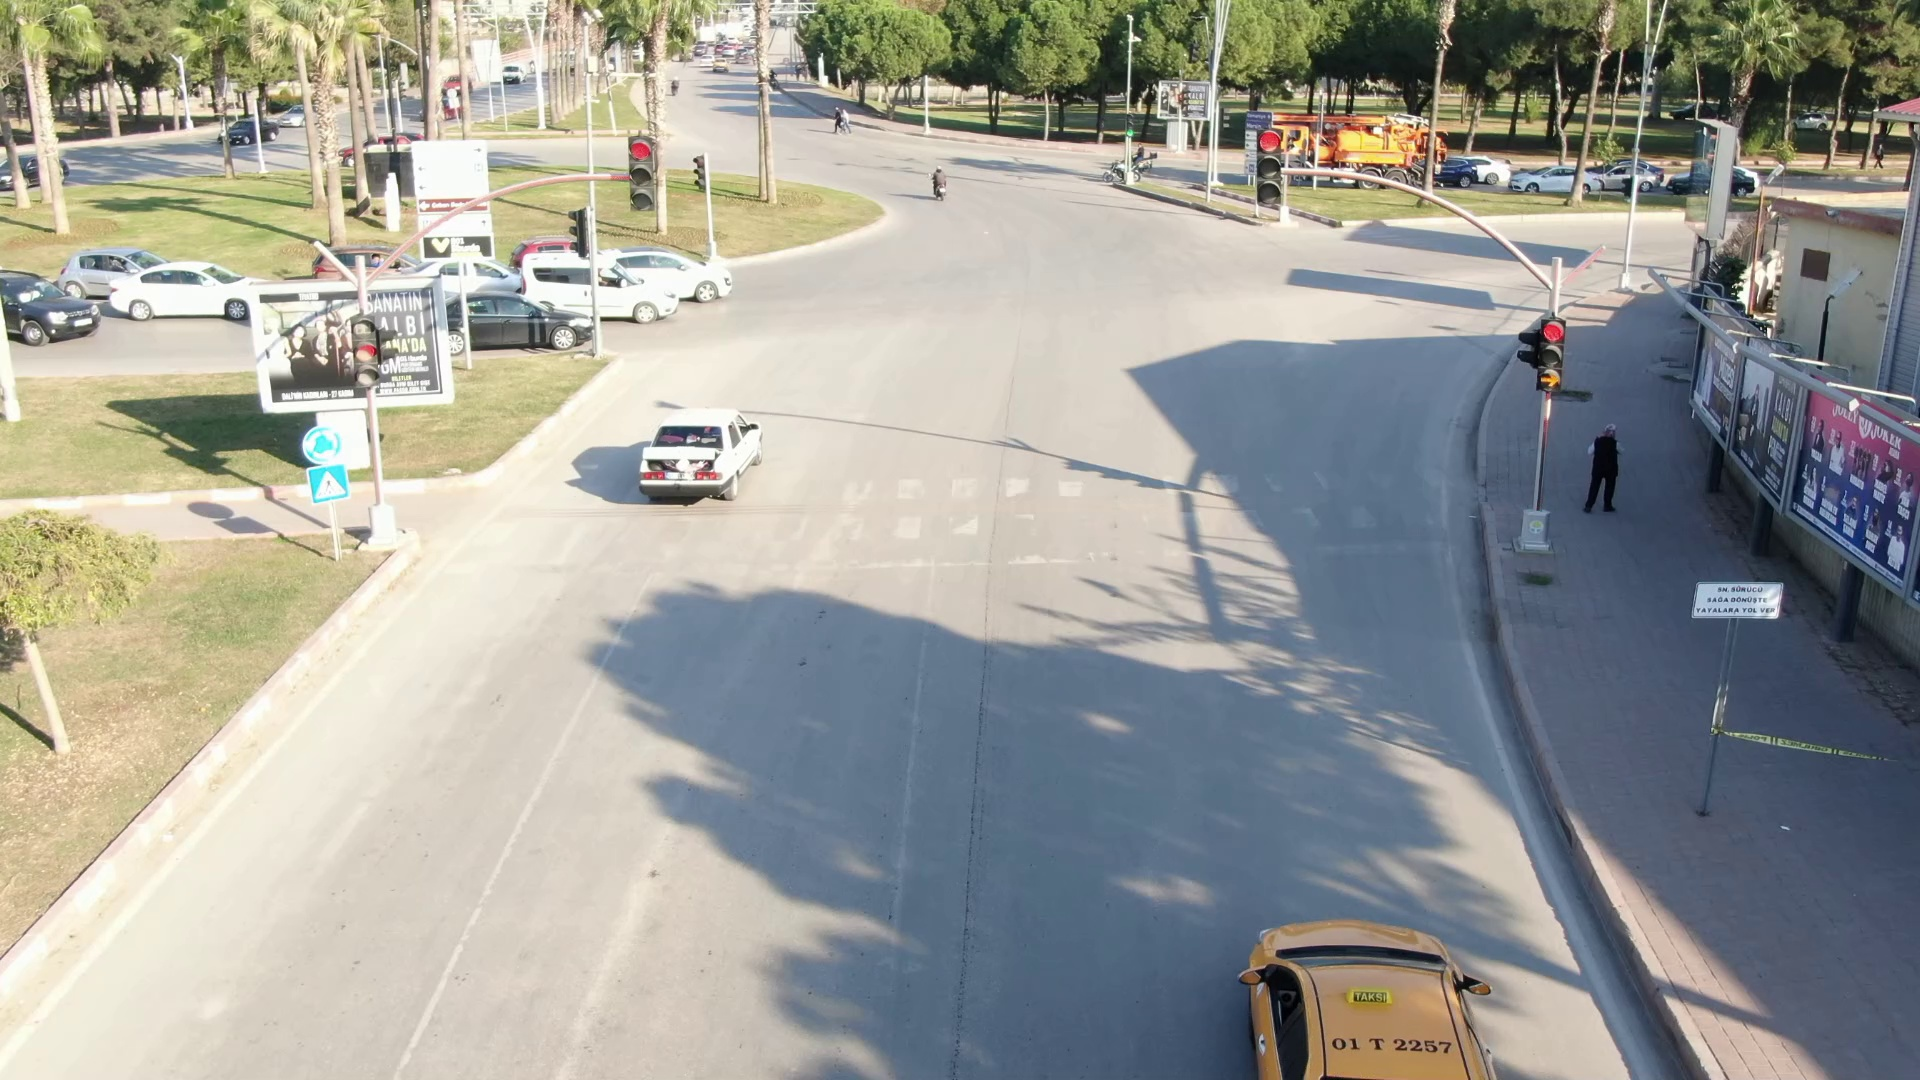car: (518, 231, 677, 327), (619, 404, 766, 506), (106, 257, 263, 321), (625, 233, 741, 304), (1, 275, 106, 343)
person: (1576, 404, 1627, 517), (910, 170, 966, 204)
